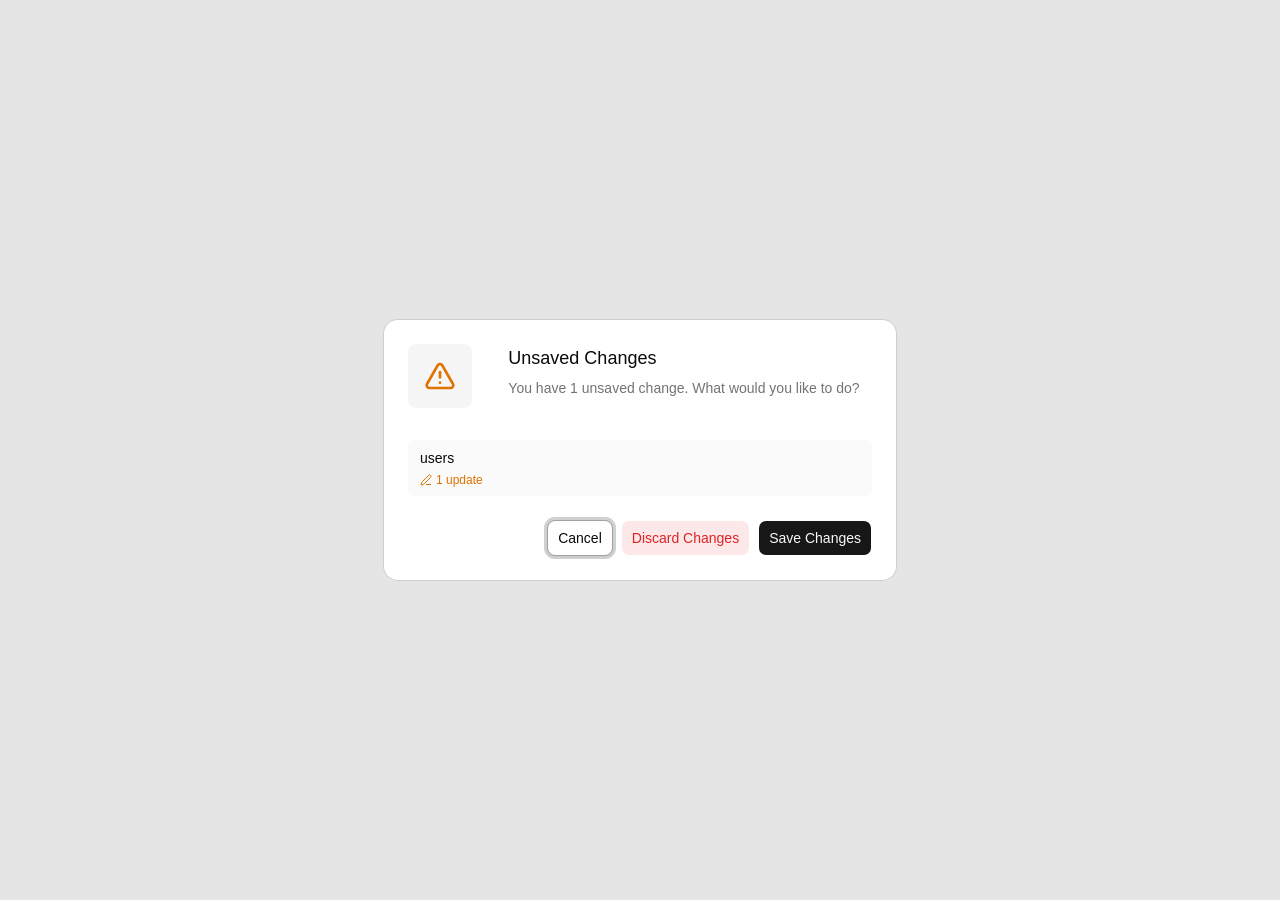
unsavedChangesDialog › error handling › should handle non-Error objects in catch block
Click the button "Save Changes": (815, 538) left=758, top=520, right=872, bottom=556
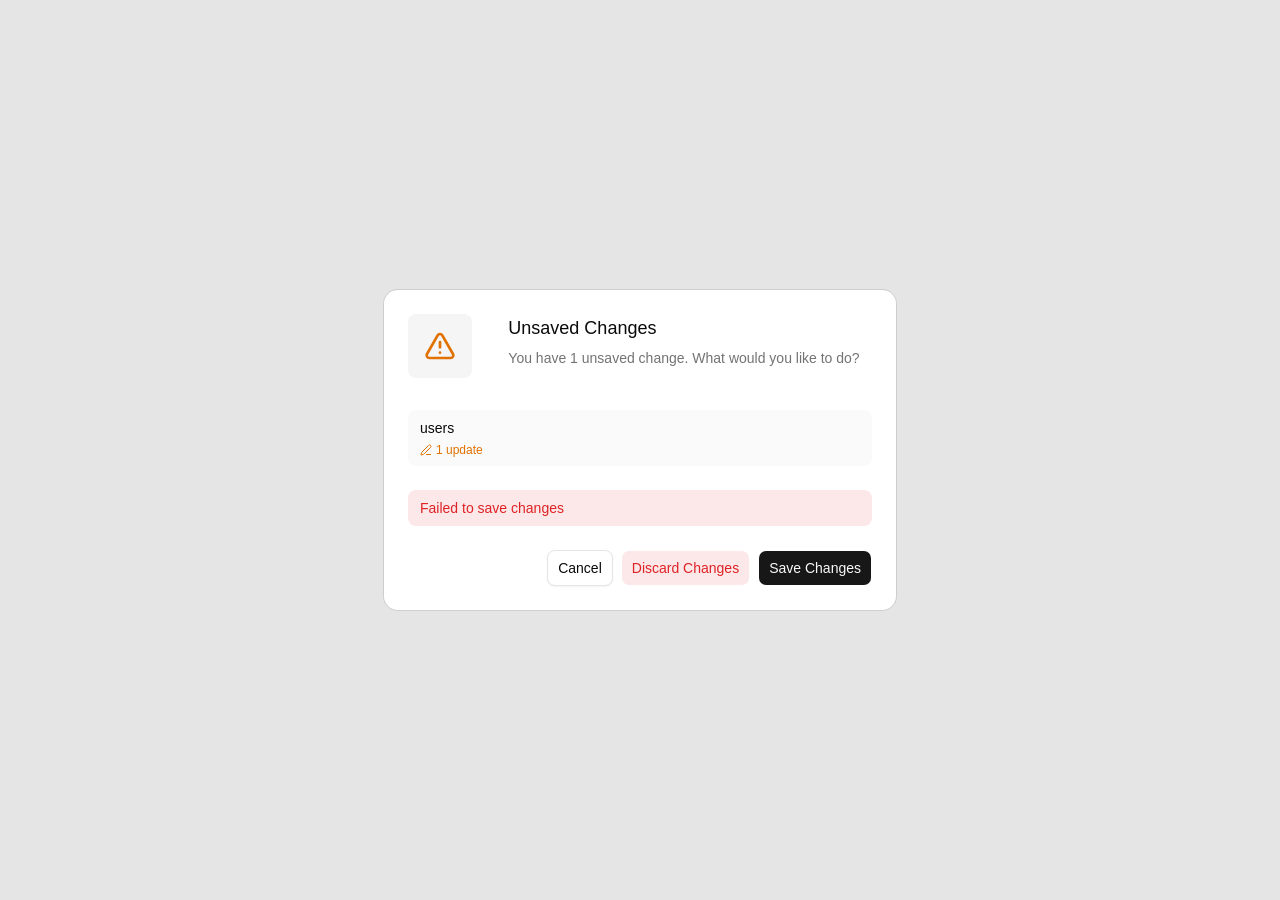
Expected: the text "Failed to save changes" is shown, left=408, top=490, right=872, bottom=526
